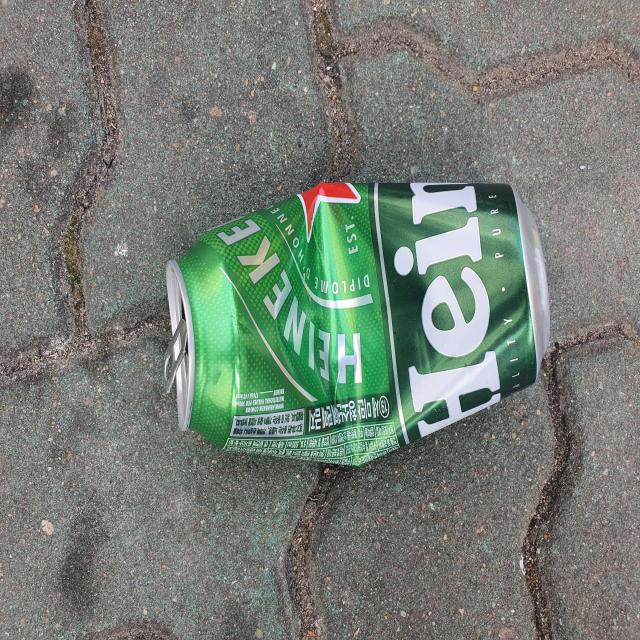can: (163, 182, 550, 466)
